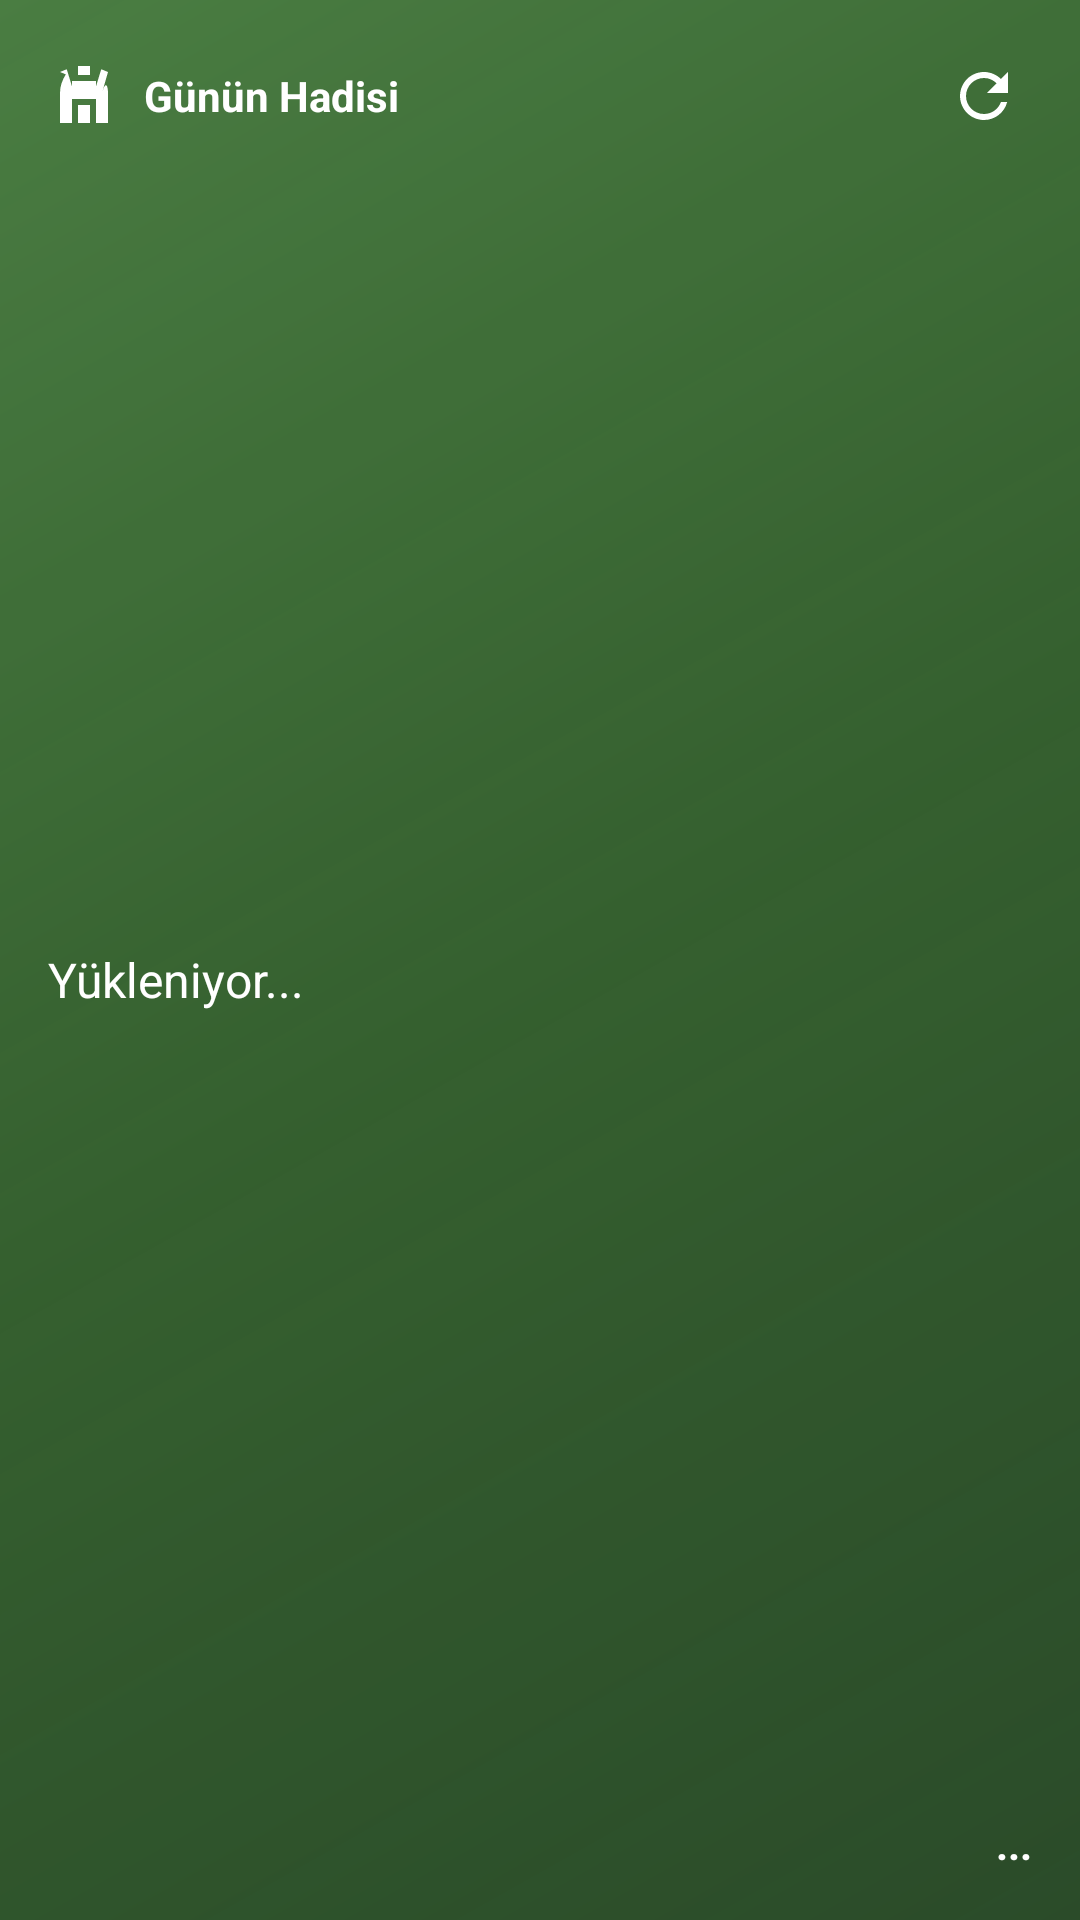

Named icons in this screenshot (1080x1920) and their centers, (x=x, y=y):
mosque: (x=84, y=94)
refresh: (x=984, y=96)
